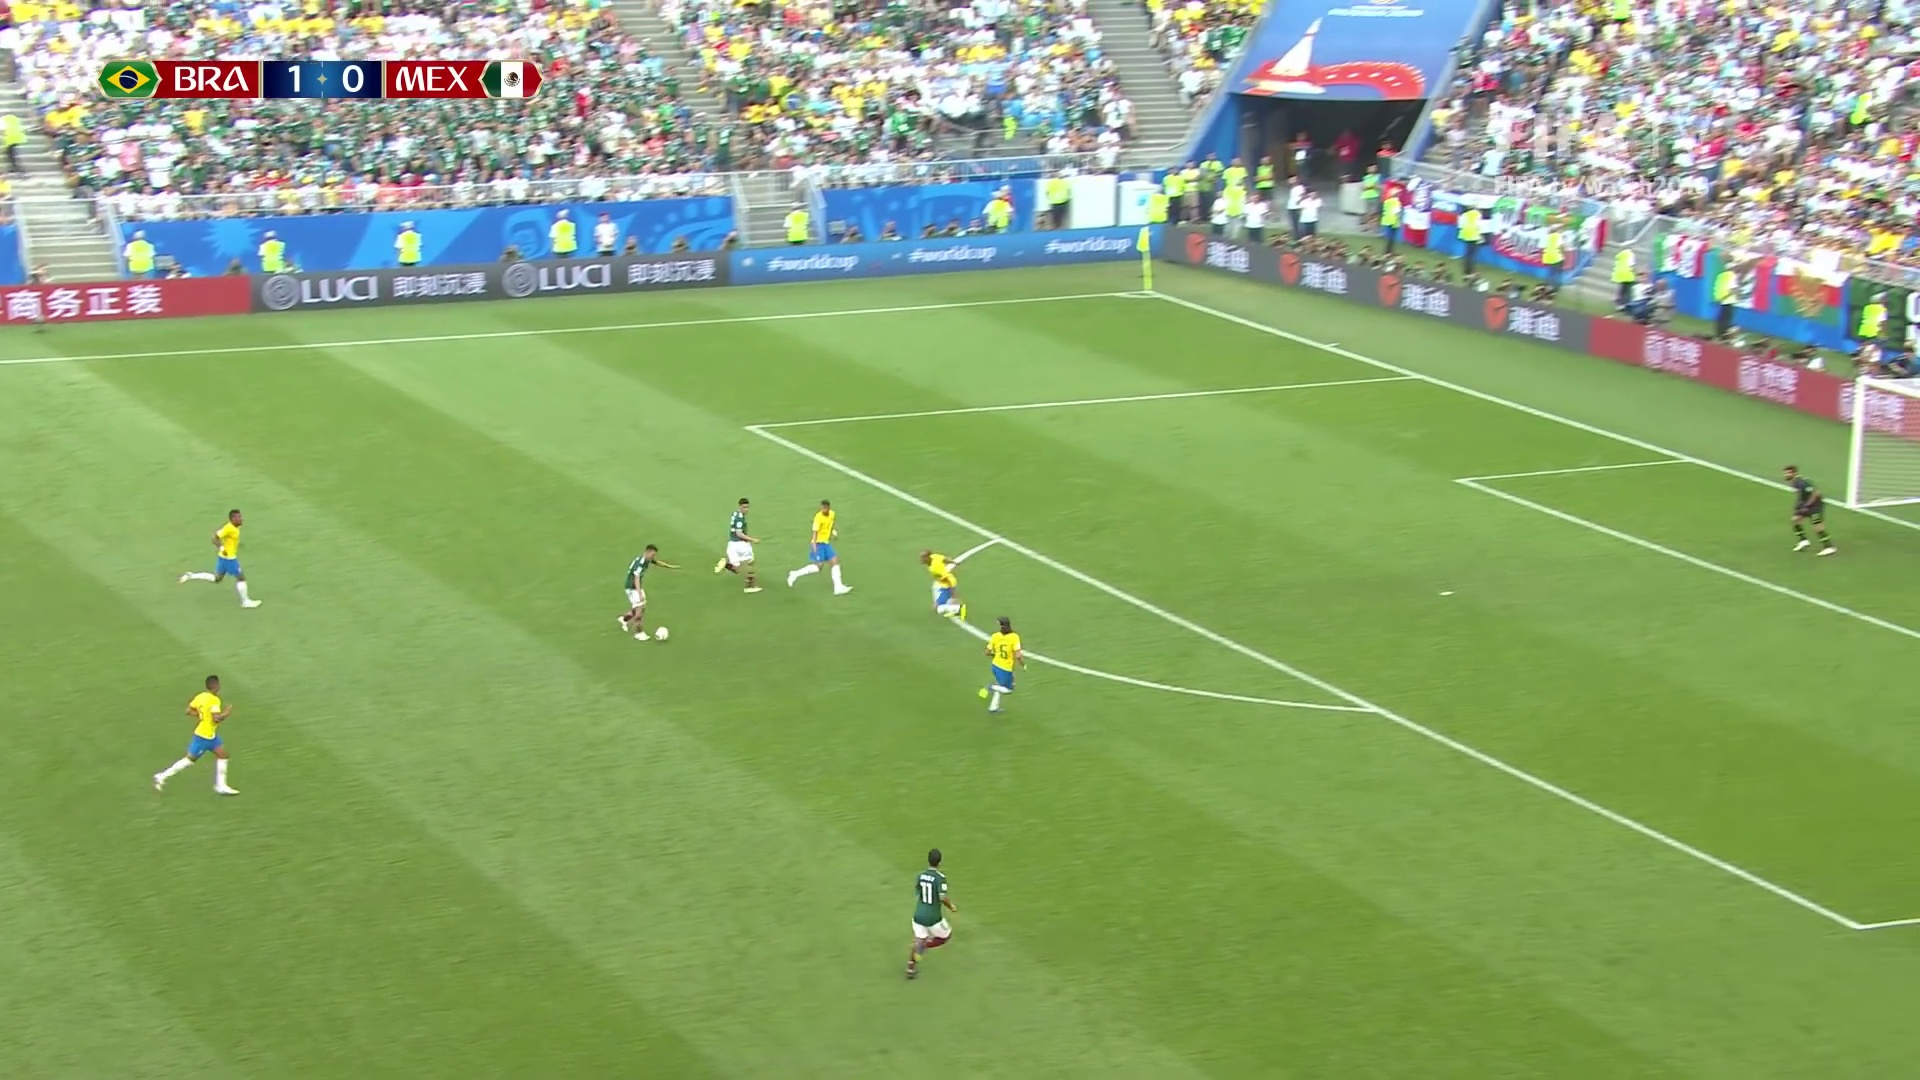ball: (655, 628, 667, 641)
person: (153, 670, 240, 790), (180, 505, 263, 605), (784, 503, 853, 593), (1784, 468, 1836, 557), (909, 849, 946, 972), (982, 620, 1026, 722), (721, 497, 761, 586), (917, 551, 967, 620), (619, 543, 657, 630)
